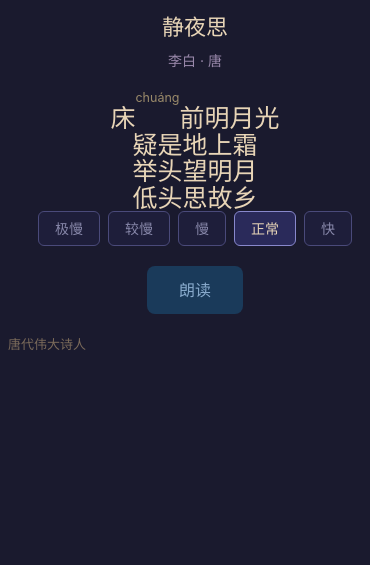
Test: PoemPlayer › annotation popup › popup pre-fills fields for existing annotation
Press the mouse on the element showing "床 chuáng" at (123, 118), box [110,103,180,133]
Wait 500 ms
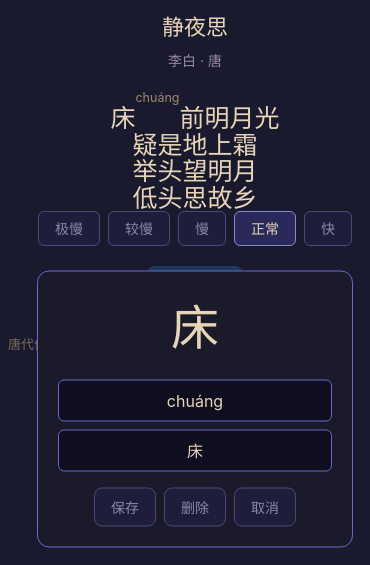
Result: the 1st field with placeholder "拼音 (e.g. huán)" holds "chuáng" at [58,380,332,422]
Result: the 2nd field with placeholder "替换字 (e.g. 环)" holds "床" at [58,430,332,472]
